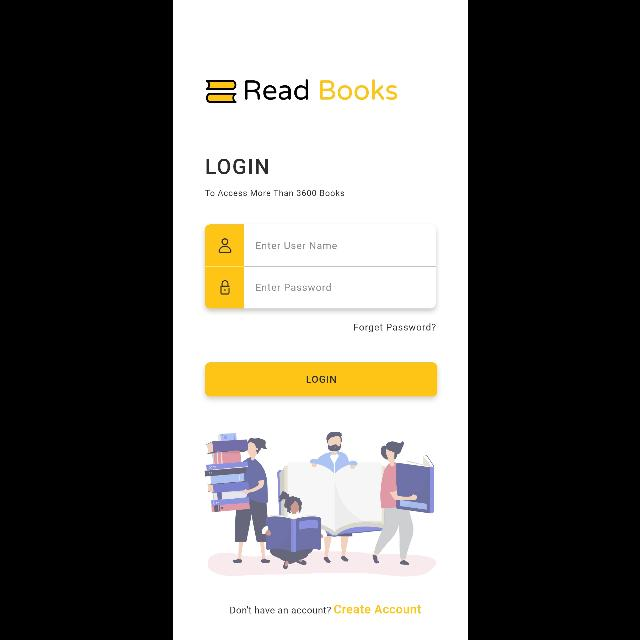icon: (218, 239, 230, 253), (220, 280, 228, 294)
image: (204, 432, 436, 576), (206, 79, 397, 103)
input: (204, 225, 436, 267), (204, 267, 436, 309)
text: (334, 604, 421, 614), (206, 160, 266, 174), (204, 190, 344, 196), (230, 606, 330, 614), (354, 323, 434, 332), (256, 242, 336, 250), (256, 284, 330, 290)
textbutton: (205, 363, 438, 397)
